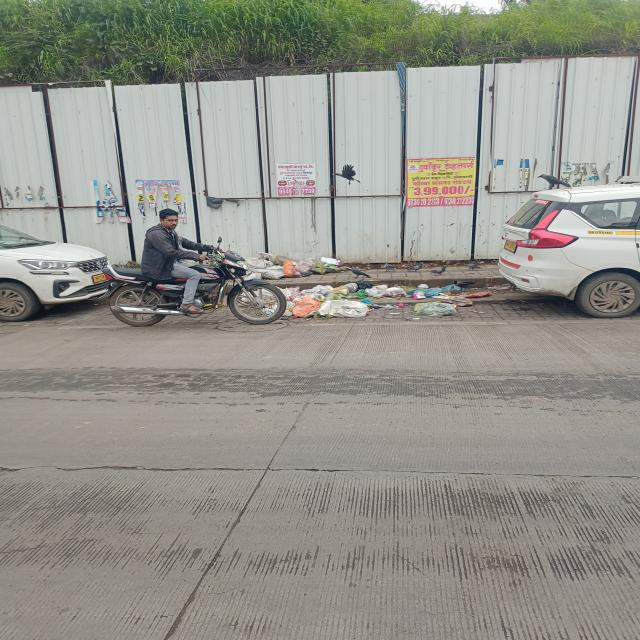garbage: (281, 281, 466, 317), (248, 255, 346, 276)
